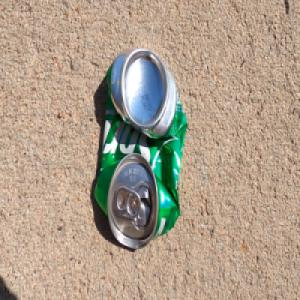SodaCan: (93, 45, 189, 251)
